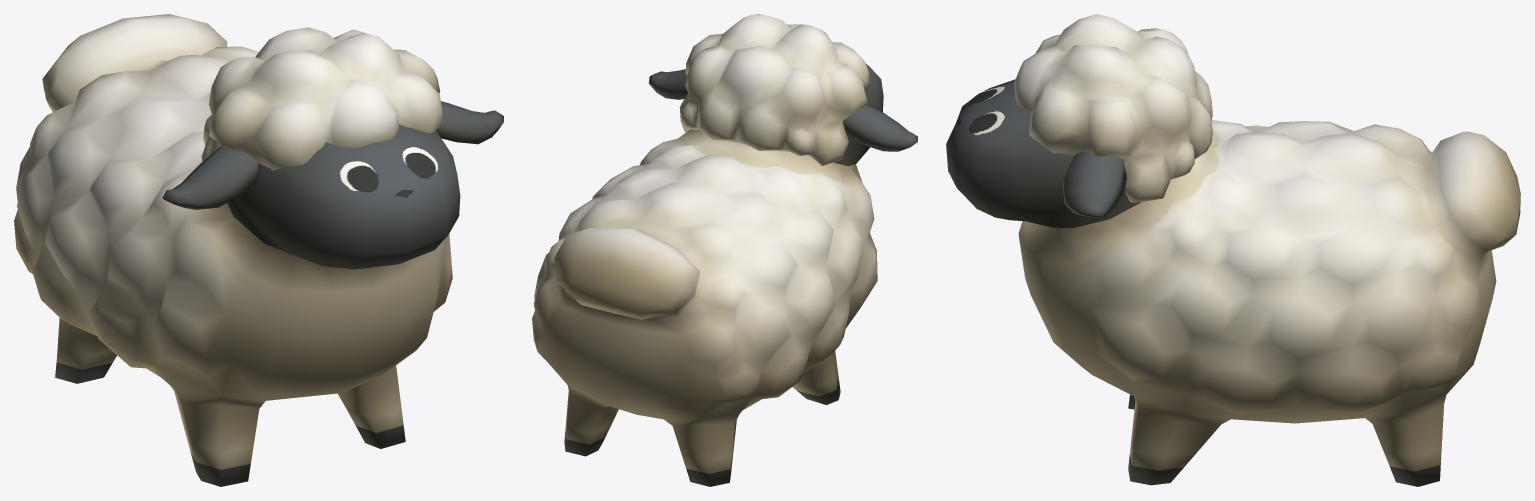
Rendered from Sheep01.fbx.
3 views of the same model, side by side, from view 1: azimuth 30°, elevation 25°; view 2: azimuth 150°, elevation 25°; view 3: azimuth 270°, elevation 25° (orthographic). The views are drawn at different scales.
Parts seen in each view (by area): view 1: Box008; view 2: Box008; view 3: Box008.
Boxes of the visible parts, bbox=[...] form: Box008: bbox=[14, 14, 503, 486]; Box008: bbox=[532, 14, 917, 486]; Box008: bbox=[946, 14, 1520, 486].
Bounding box in the file's own units: 23.23 × 28.18 × 36.14.
1 material, 1 textured.
